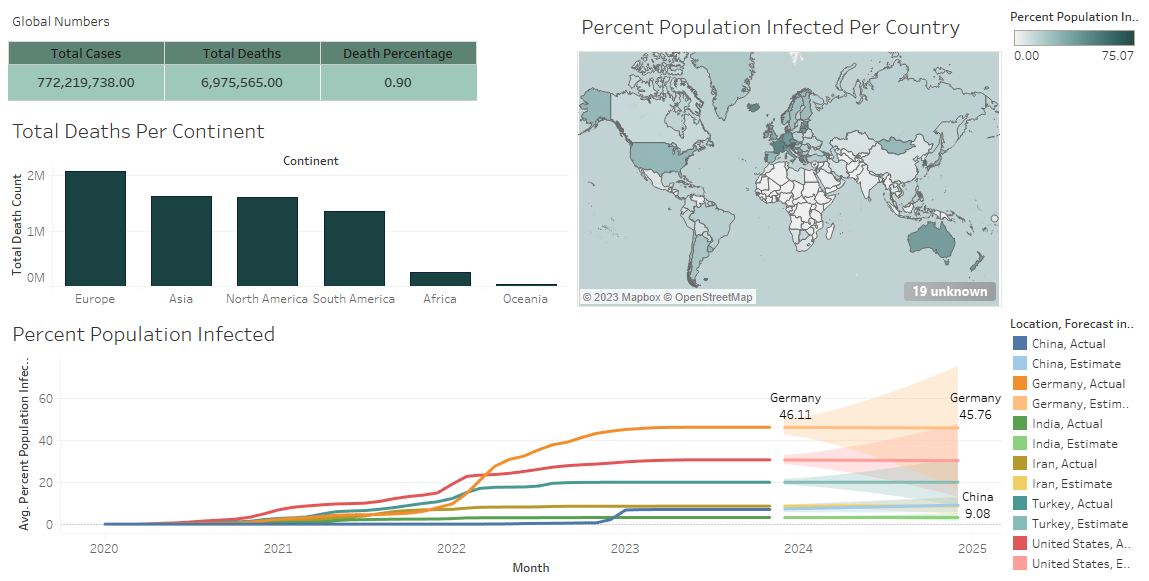

The page's visual inventory and layout, read from the dashboard file:
{"tool":"tableau","page":{"name":"Covid Dashboard","canvas":[1000,1000],"units":"permille","ordinal":0},"visuals":[{"type":"worksheet","title":"Sheet 1","mark":"Automatic","box":[6.9,13.5,492.6,175.7]},{"type":"worksheet","title":"Sheet 3","mark":"Automatic","box":[499.6,13.5,374.9,518.6]},{"type":"legend","title":"Sheet 3","param":"[federated.0l6h2jz1x7uh0y1g0ejfd18xhnu4].[sum:PercentPopulationInfected:qk]","box":[874.5,13.5,118.6,518.6]},{"type":"worksheet","title":"Sheet 2","mark":"Automatic","rows":["TotalDeathCount"],"cols":["location"],"box":[6.9,189.2,492.6,342.9]},{"type":"worksheet","title":"Sheet 4","mark":"Automatic","rows":["PercentPopulationInfected"],"cols":["date"],"box":[6.9,532.1,867.5,454.4]},{"type":"legend","title":"Sheet 4","param":"[federated.0vg29mg1kzg1861ejgh5s0lurphp].[none:Location:nk]\n[federated.0vg29mg1k","box":[874.5,532.1,118.6,449.3]}]}

Visuals, with their boxes on the dashboard's canvas, which has no fixed pixel size, in thousandths of its width and height (x1, y1, x2, y2). These are canvas units, not pixel positions in the 1149x581 screenshot, which may show the page scaled, cropped or inside an application window:
"Sheet 1" worksheet: Rect(7, 14, 500, 189)
"Sheet 3" worksheet: Rect(500, 14, 874, 532)
"Sheet 3" legend: Rect(874, 14, 993, 532)
"Sheet 2" worksheet: Rect(7, 189, 500, 532)
"Sheet 4" worksheet: Rect(7, 532, 874, 986)
"Sheet 4" legend: Rect(874, 532, 993, 981)
